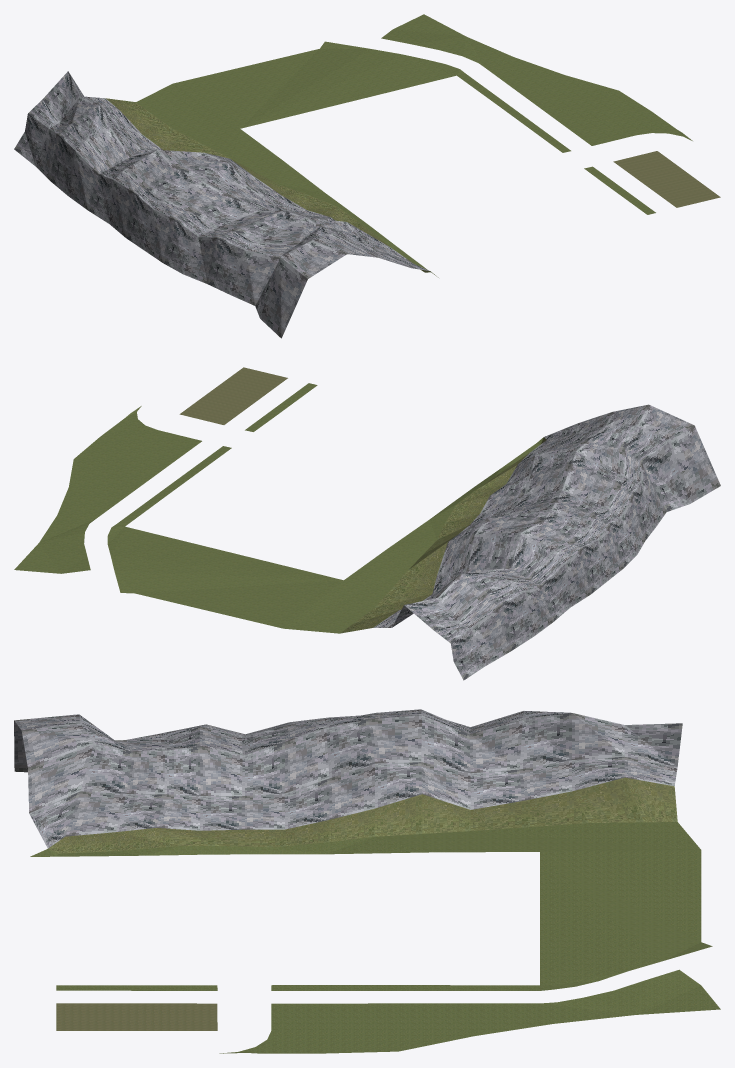
Rendered from lodecoast04.obj.
3 views of the same model, one above another, from view 1: azimuth 30°, elevation 25°; view 2: azimuth 150°, elevation 25°; view 3: azimuth 270°, elevation 25° (orthographic). The views are drawn at different scales.
Visible parts, largest first — view 1: lodEcoast04; view 2: lodEcoast04; view 3: lodEcoast04.
Boxes of the visible parts, left/top/right/bottom form: lodEcoast04: left=14, top=14, right=720, bottom=338; lodEcoast04: left=14, top=367, right=720, bottom=680; lodEcoast04: left=14, top=709, right=720, bottom=1053.
Size of the model in its own units: 276 by 35.25 by 263.
Materials: 5 (5 with a texture image).
